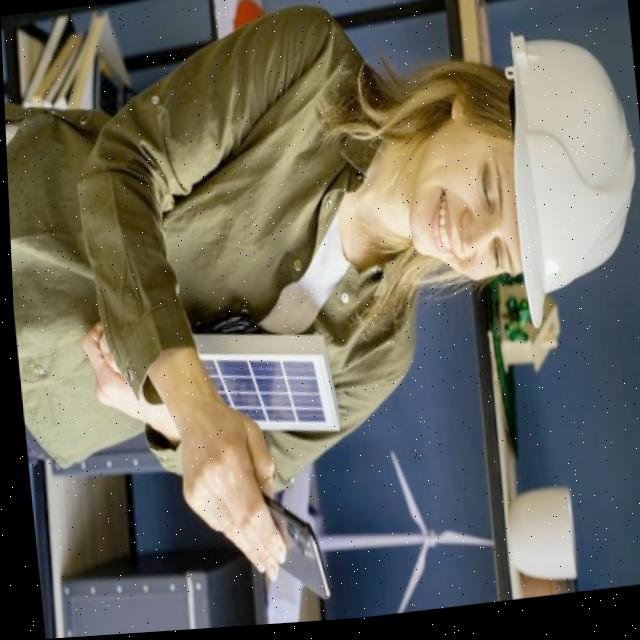solid-blade: (386, 456, 421, 539), (391, 552, 421, 618), (428, 536, 486, 553)
wind-turbine: (313, 456, 488, 618)
